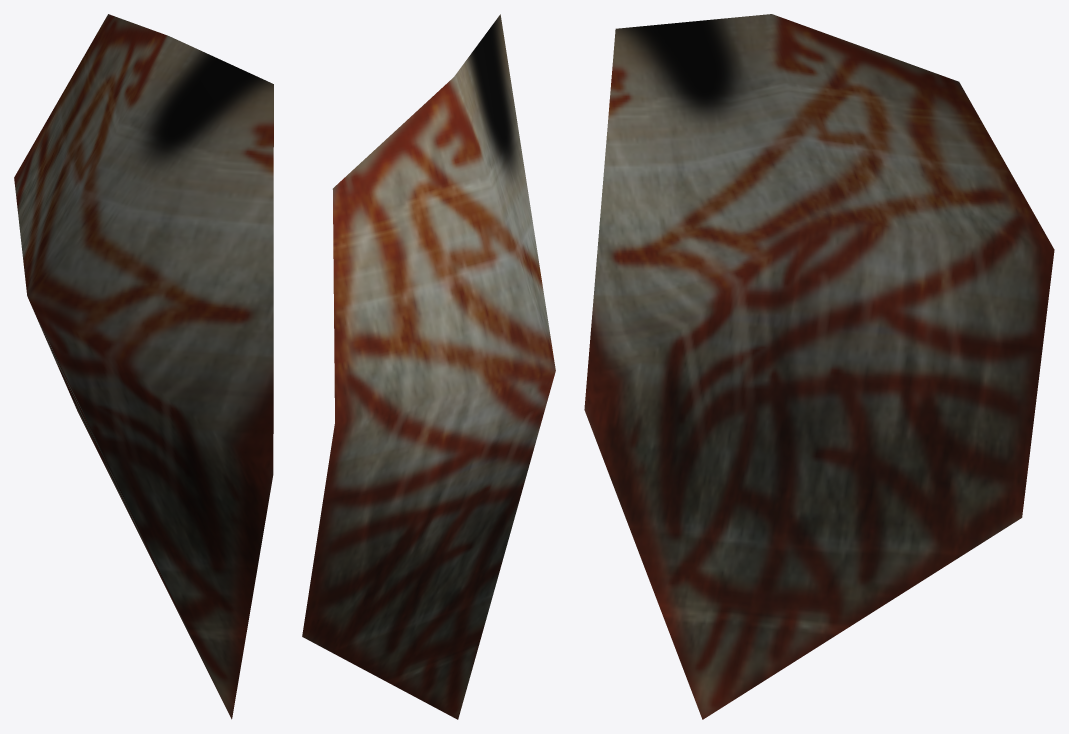
Rendered from shield.gltf.
3 views of the same model, side by side, from view 1: azimuth 30°, elevation 25°; view 2: azimuth 150°, elevation 25°; view 3: azimuth 270°, elevation 25° (orthographic). The views are drawn at different scales.
Visible parts, largest first — view 1: Box02; view 2: Box02; view 3: Box02.
Boxes of the visible parts, <box> form: Box02: <box>14,14,273,719</box>; Box02: <box>302,14,555,719</box>; Box02: <box>584,14,1054,719</box>.
Bounding box in the file's own units: 23 × 97.24 × 59.94.
Materials: 1 (1 with a texture image).
